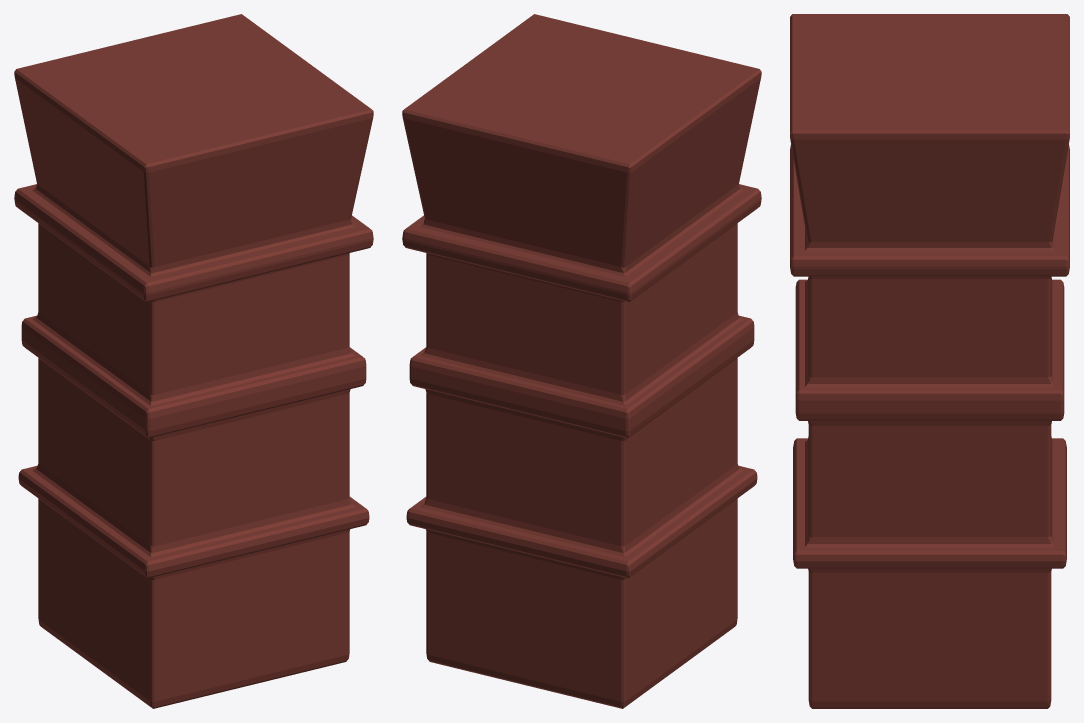
File: Edificio_principal.fbx
The picture shows the model from 3 angles, left to right: view 1: azimuth 30°, elevation 25°; view 2: azimuth 150°, elevation 25°; view 3: azimuth 270°, elevation 25°; orthographic projection. The views are drawn at different scales.
Parts seen in each view (by area): view 1: Edificio_principal; view 2: Edificio_principal; view 3: Edificio_principal.
Boxes of the visible parts, x1,y1,x2,y2 form: Edificio_principal: (14,14,373,708); Edificio_principal: (402,14,761,708); Edificio_principal: (790,14,1069,708).
Size of the model in its own units: 846 by 1959 by 846.
